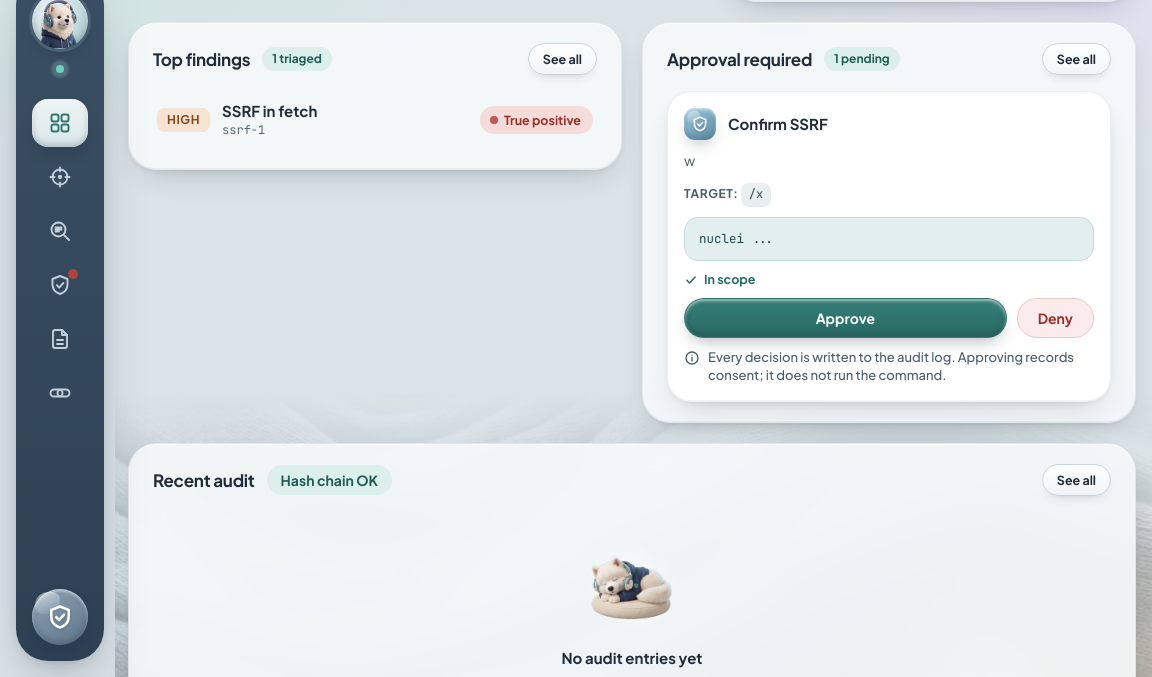
Test: deciding a gate refreshes the audit feed
This screenshot has width=1152, height=677.
(page scrolled)
Click the button "Approve": (845, 318) top-left (684, 298), bottom-right (1007, 338)
(page scrolled)
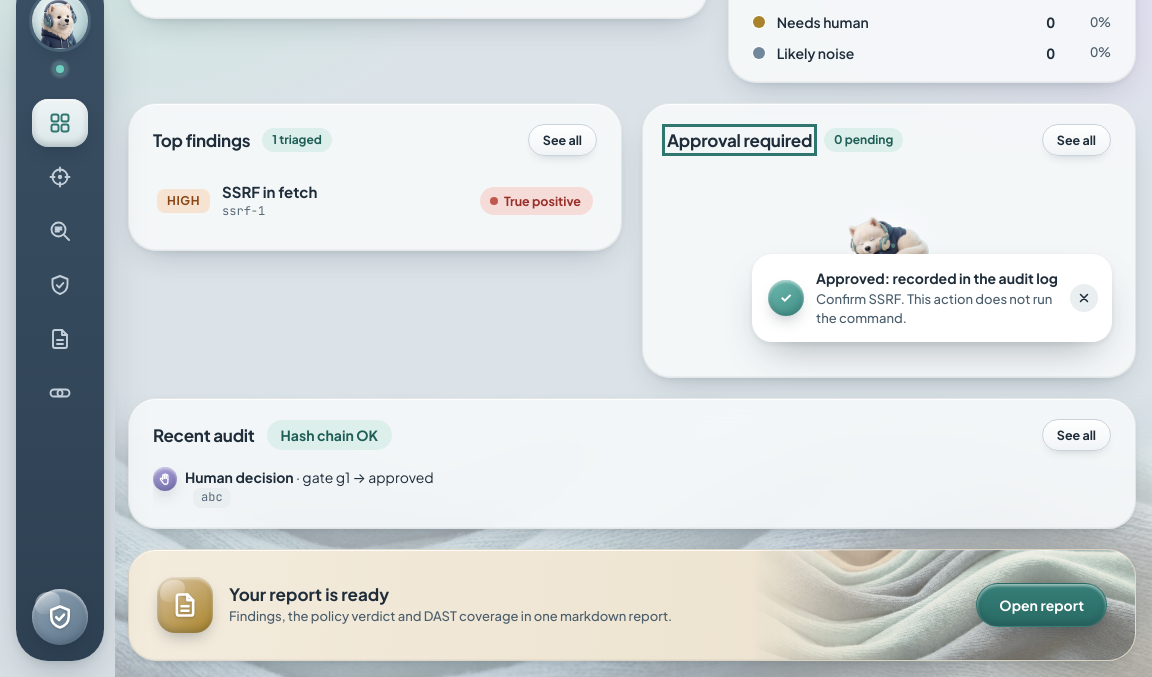
Result: the text "Human decision · gate g1 → approved" is shown at top-left (185, 468), bottom-right (434, 486)
